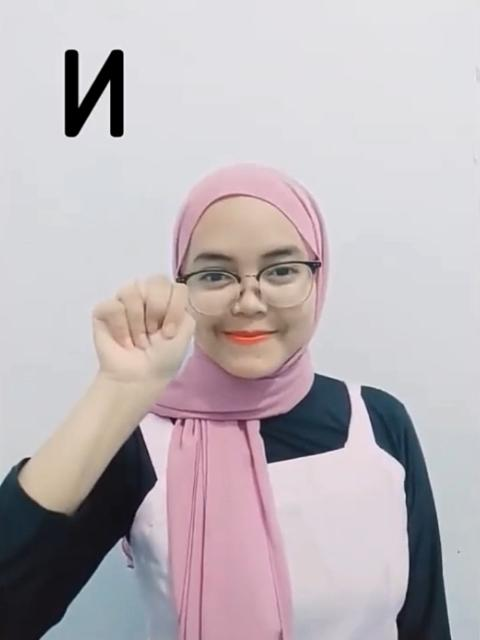N: (90, 275, 196, 395)
